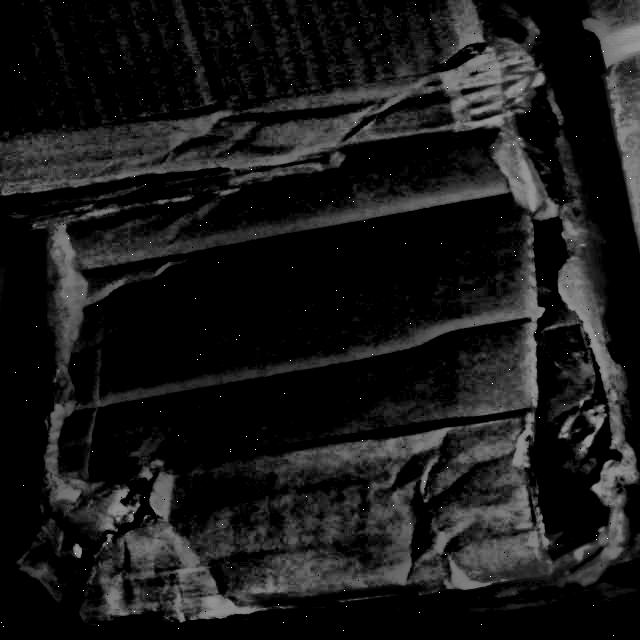box: (26, 0, 639, 628)
hole: (483, 199, 639, 567), (37, 463, 183, 606)
